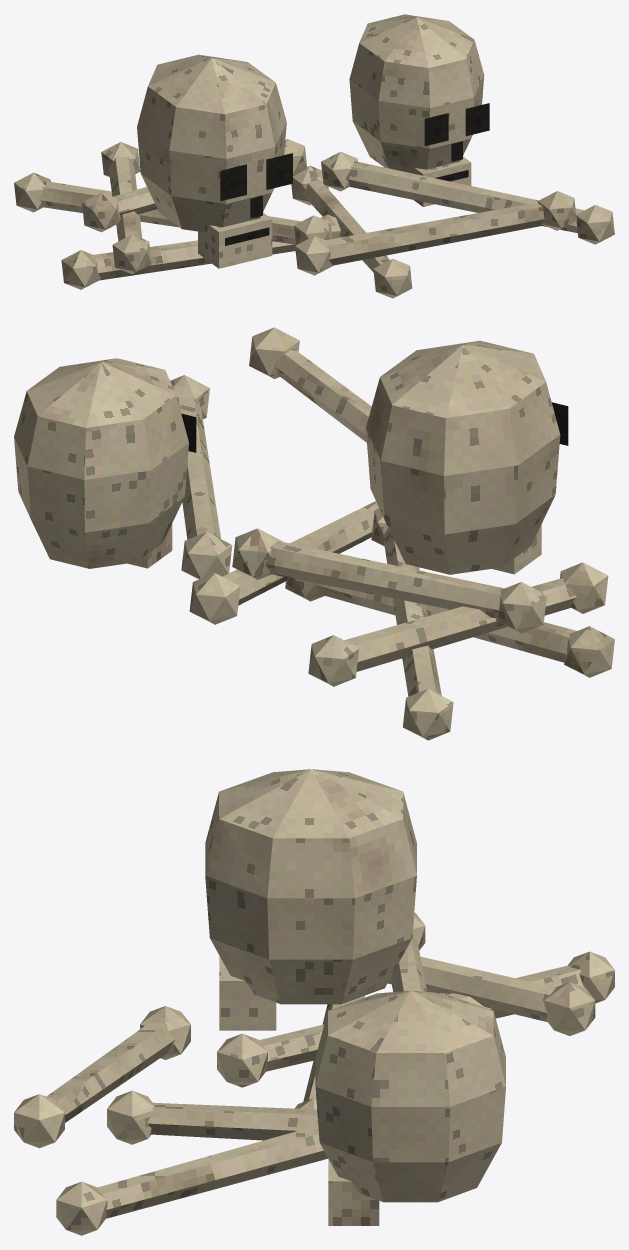
File: huesos_pila.obj
3 views of the same model, one above another, from view 1: azimuth 30°, elevation 25°; view 2: azimuth 150°, elevation 25°; view 3: azimuth 270°, elevation 25° (orthographic). The views are drawn at different scales.
Visible parts, largest first — view 1: huesos_pila; view 2: huesos_pila; view 3: huesos_pila.
Part boxes in pixels (x1,y1,x2,y2): huesos_pila: (14, 14, 614, 298); huesos_pila: (14, 327, 614, 740); huesos_pila: (14, 769, 614, 1235).
Bounding box in the file's own units: 0.7031 × 0.3388 × 0.6029.
Materials: 2 (2 with a texture image).
